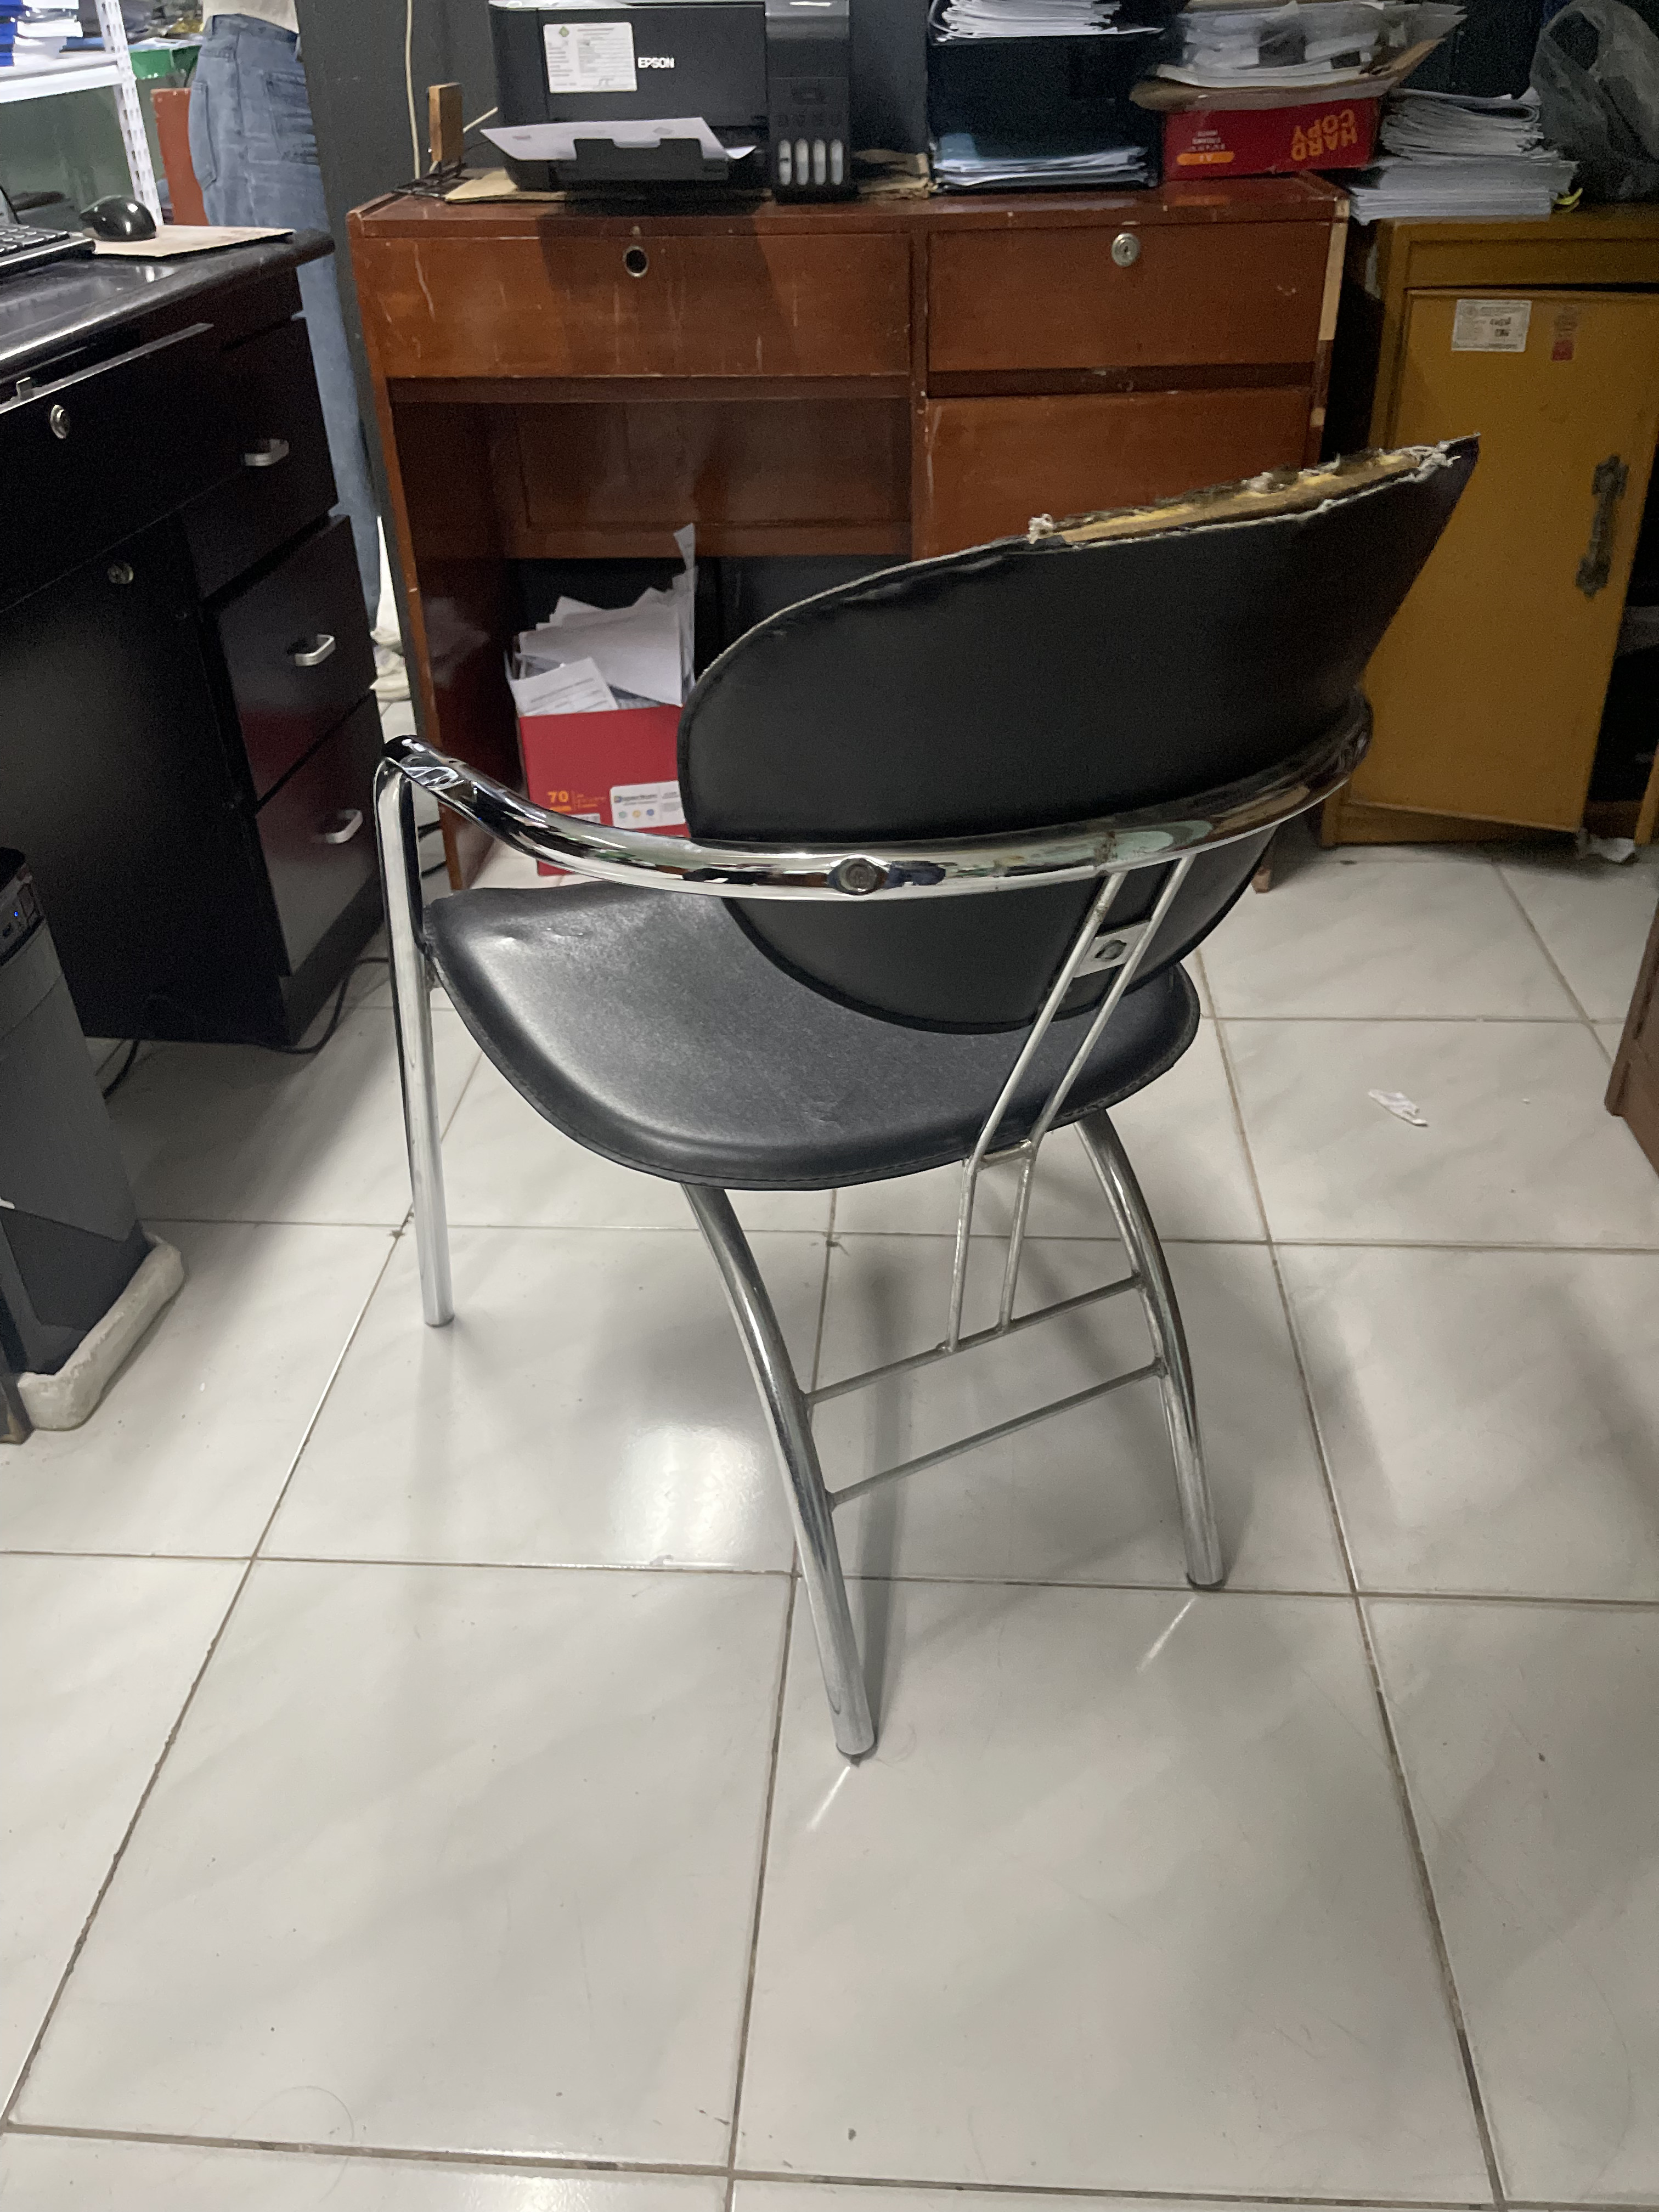chair1: (364, 435, 1490, 1771)
